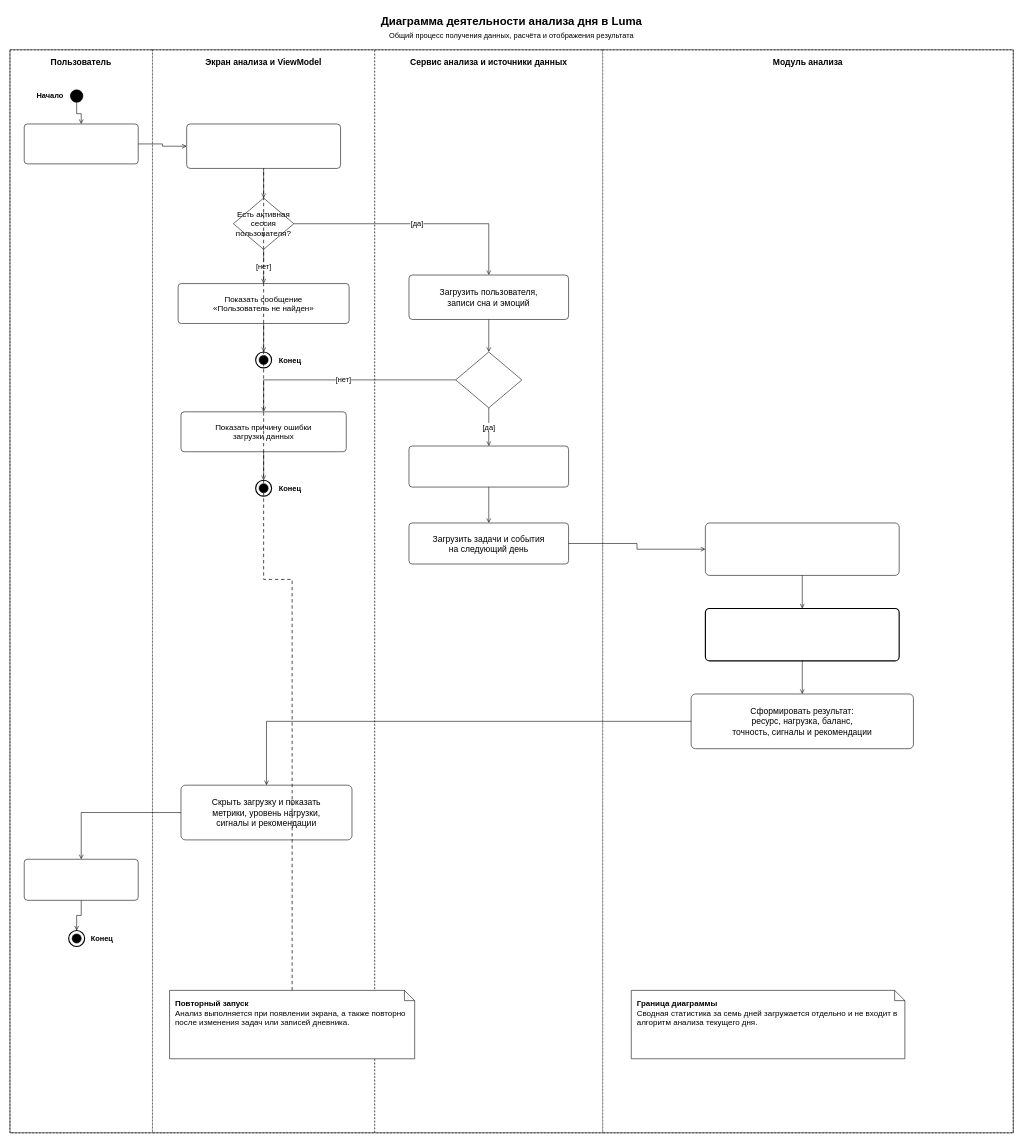
Image size: 1023x1143. Some labels were removed from this diagram. Each missing label, with the centre of its shape:
"Данные пользователя и дневника загружены?" belongs at point 488,379.
"Загрузить задачи и события на текущий день" belongs at point 488,466.
"Запустить загрузку анализа и показать состояние загрузки" belongs at point 263,145.
"Открыть раздел «Анализ дня»" belongs at point 81,143.
"Просмотреть анализ и рекомендации" belongs at point 81,879.
"Рассчитать показатели анализа см. лист «Расчёт показателей»" belongs at point 802,634.
"Сформировать входные данные: пользователь, дата, задачи, сон и эмоции" belongs at point 802,548.
